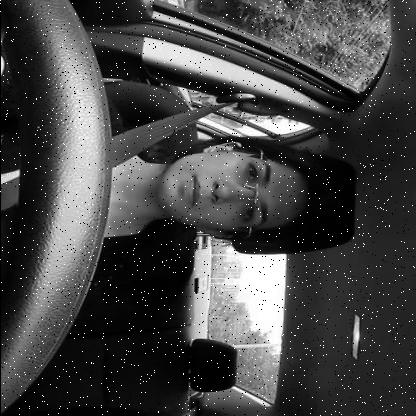seatbelt: (0, 83, 345, 257)
